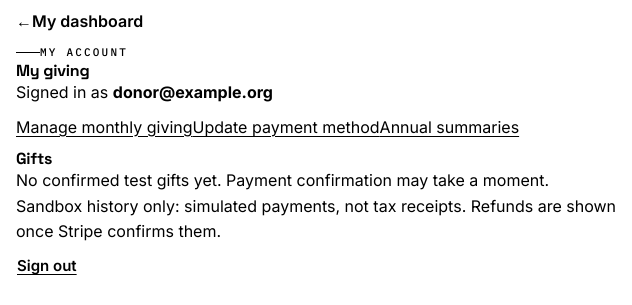
Test: renders protected empty history, and removes it after logout
The image size is (632, 305).
expect the text "No confirmed test gifts" is shown: met, box [16, 170, 549, 190]
Step 1. Click the button "Sign out" → (47, 267), box [16, 245, 78, 289]
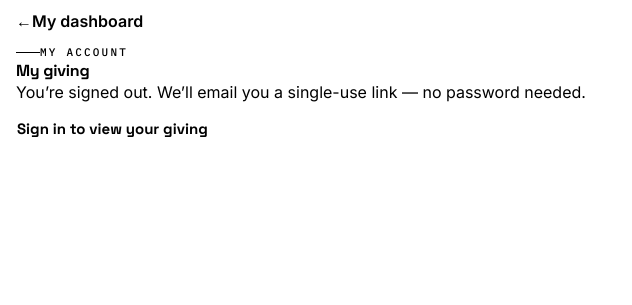
expect the link "Sign in to view your giving" is shown: met, box [17, 119, 208, 138]
expect the text "donor@example.org" is gone: met
